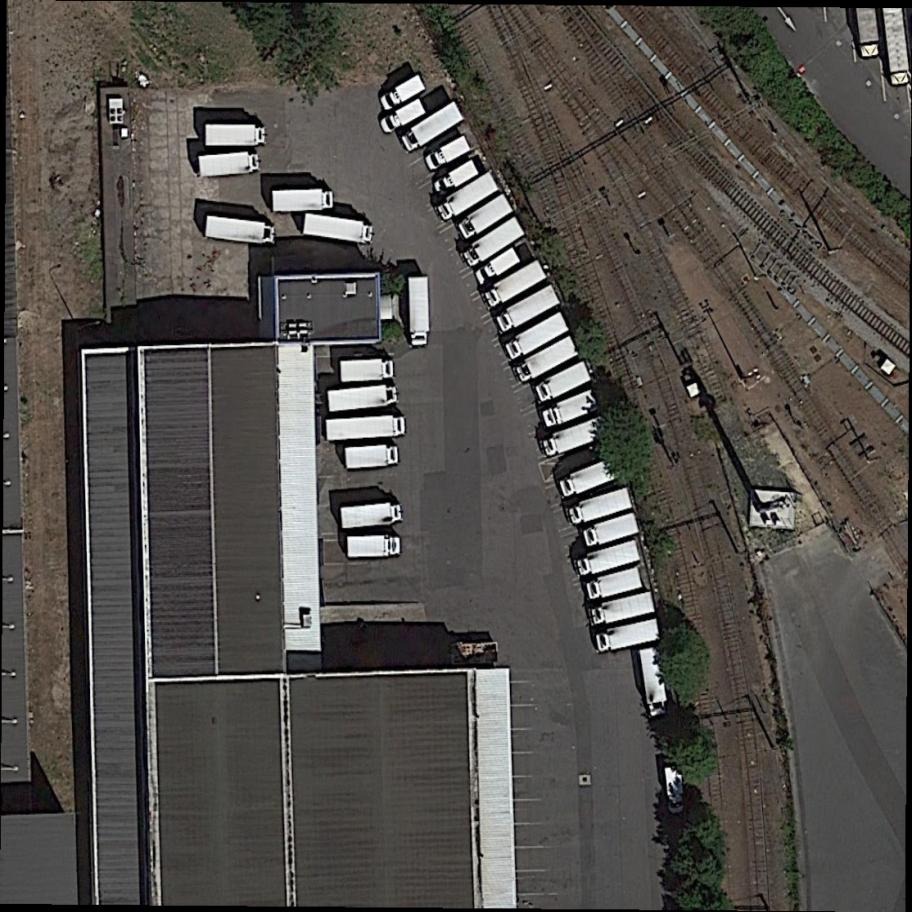large-vehicle: (490, 282, 564, 337), (396, 99, 467, 155), (432, 169, 503, 224), (479, 258, 550, 311), (511, 333, 582, 386), (460, 214, 528, 269), (501, 310, 572, 362), (536, 412, 612, 460), (454, 193, 515, 242), (531, 360, 595, 406), (537, 387, 605, 430), (572, 539, 643, 579), (564, 486, 634, 526), (586, 590, 658, 628), (556, 457, 621, 499), (594, 617, 662, 654), (324, 414, 408, 442), (302, 213, 375, 245), (204, 214, 277, 246), (638, 646, 670, 717), (326, 383, 399, 414), (580, 512, 641, 548), (883, 6, 910, 87), (471, 246, 523, 288), (583, 567, 645, 602), (430, 158, 482, 199), (378, 97, 429, 136), (339, 501, 404, 531), (423, 134, 473, 173), (378, 74, 428, 113), (197, 149, 261, 179), (271, 187, 335, 213), (408, 277, 430, 348), (344, 443, 400, 470), (204, 123, 267, 147), (346, 534, 403, 559), (856, 6, 881, 59), (341, 358, 395, 381), (665, 766, 686, 814)
